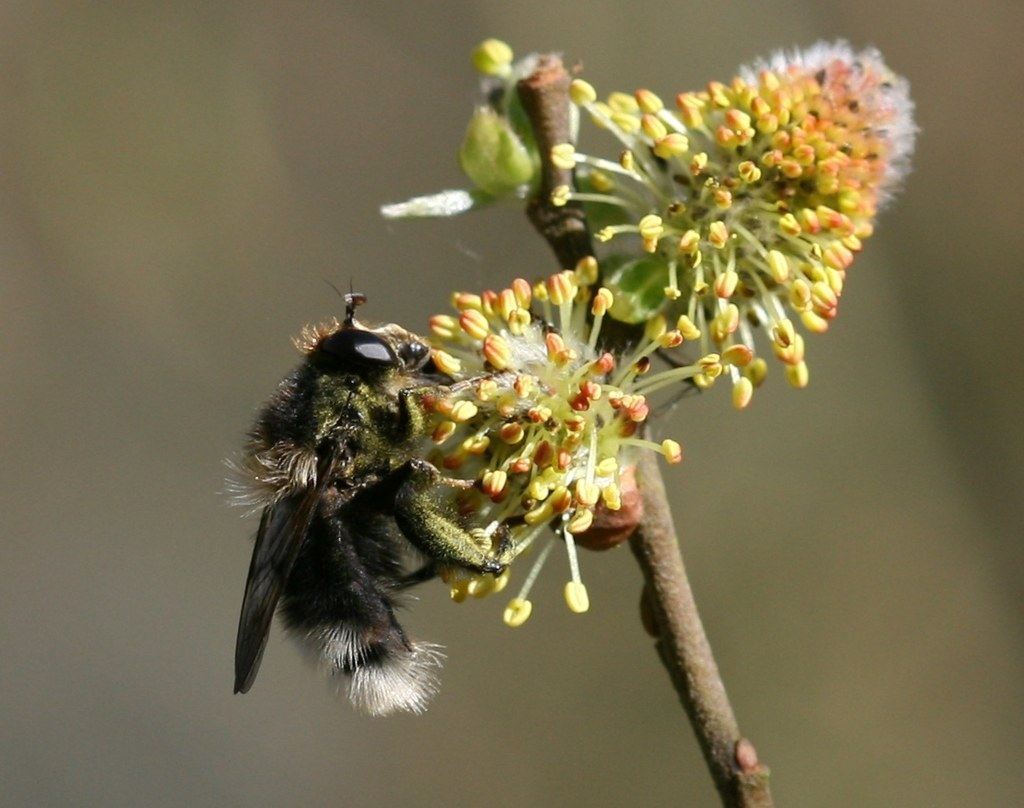bee: (215, 284, 514, 762)
insect: (421, 270, 738, 646)
